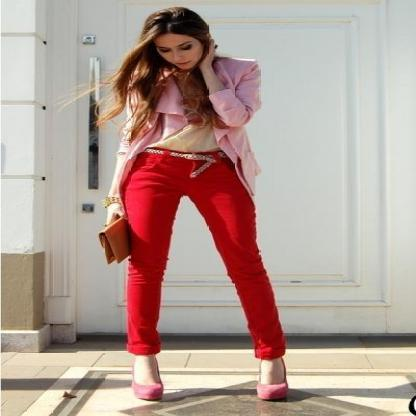bag: (99, 208, 130, 263)
jacket: (156, 59, 259, 157)
pants: (119, 147, 285, 357)
shirt: (146, 125, 221, 159)
shoe: (124, 375, 289, 406)
